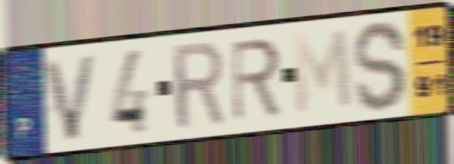4: (105, 47, 155, 138)
M: (291, 25, 356, 120)
R: (169, 37, 228, 134), (228, 35, 284, 126)
S: (351, 17, 409, 115)
V: (41, 50, 101, 144)
